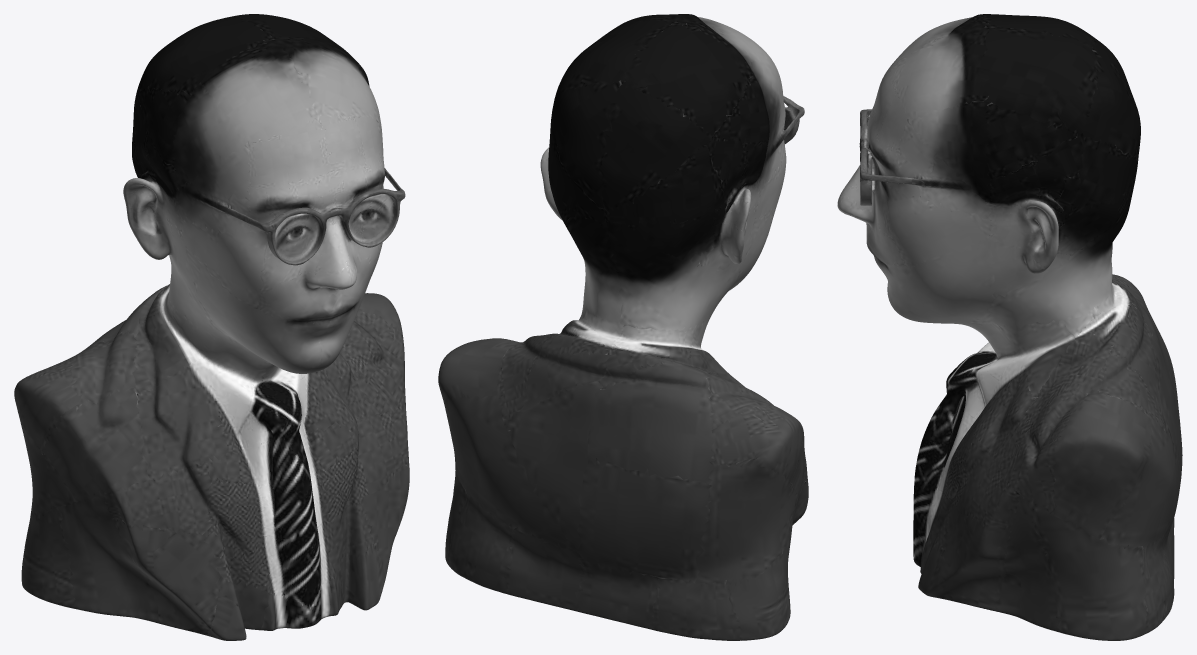
File: Hideki_Yukawa_optimized.glb
The picture shows the model from 3 angles, left to right: view 1: azimuth 30°, elevation 25°; view 2: azimuth 150°, elevation 25°; view 3: azimuth 270°, elevation 25°; orthographic projection. The views are drawn at different scales.
Size of the model in its own units: 1.3 by 1.9 by 1.11.
1 material, 1 textured.
